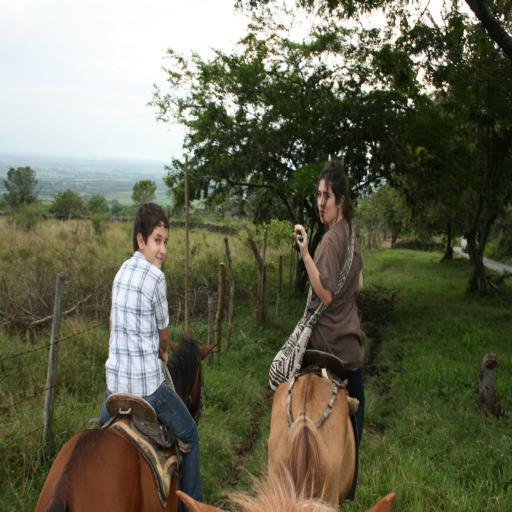horse: (34, 332, 218, 512), (173, 453, 396, 512), (266, 372, 357, 512)
